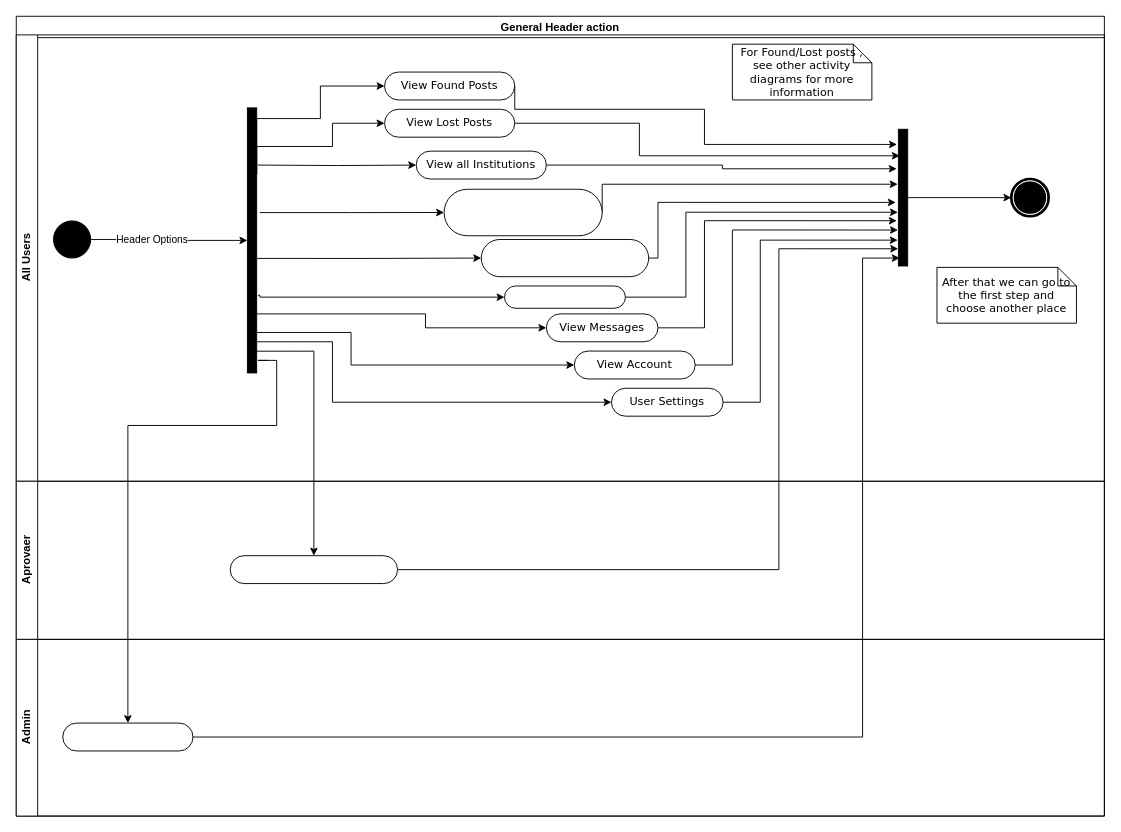
This 1121x832 diagram has some shape labels left out. The centre of each missing label's shape, as x and y in pixels:
"View all Professionals / Employees" goes at [522,212].
"View all Users" goes at [127,736].
"View Announcements" goes at [564,258].
"View Notifications" goes at [564,296].
"View User Applications" goes at [313,569].
